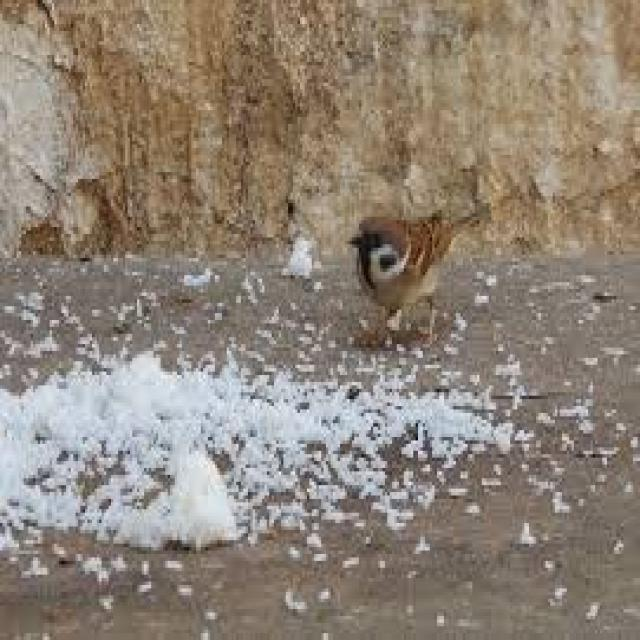bird: (350, 203, 482, 345)
